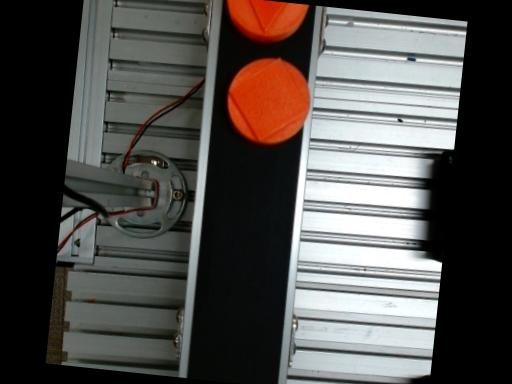Not_Square: (251, 0, 287, 35)
Orange_Waper: (227, 57, 309, 142), (228, 0, 308, 36)
Square: (227, 58, 310, 140)
